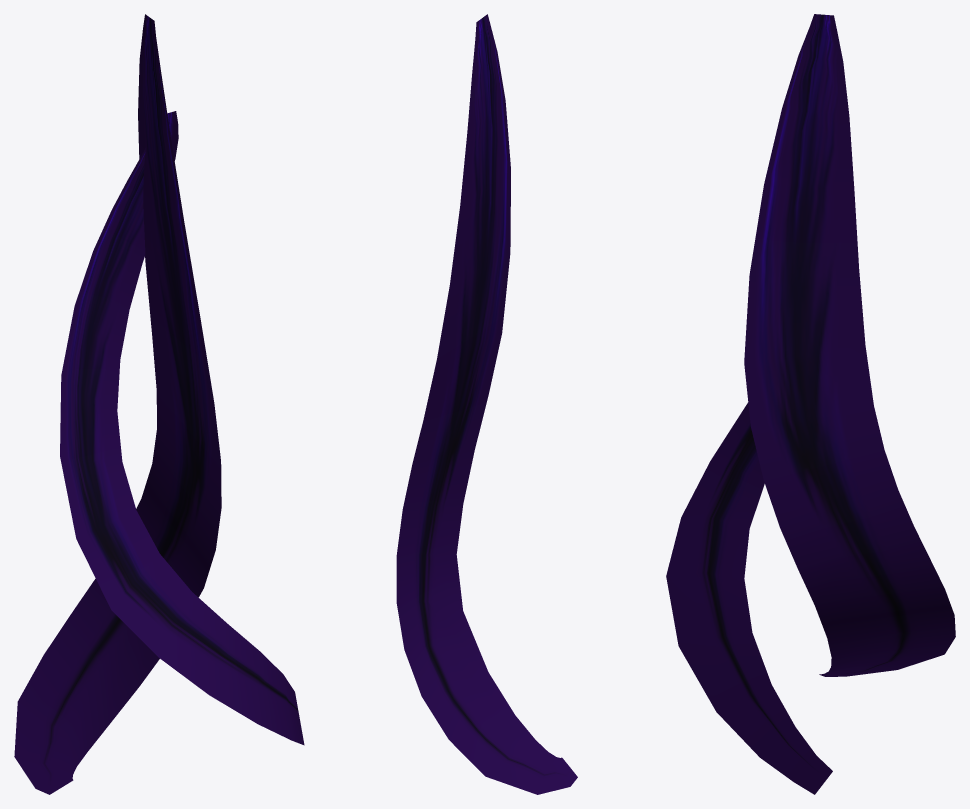
Rendered from youlinglang_chusheng.FBX.
The picture shows the model from 3 angles, left to right: view 1: azimuth 30°, elevation 25°; view 2: azimuth 150°, elevation 25°; view 3: azimuth 270°, elevation 25°; orthographic projection. The views are drawn at different scales.
Parts seen in each view (by area): view 1: 4_1, 4_2; view 2: 4_1; view 3: 4_1, 4_2.
Boxes of the visible parts, x1,y1,x2,y2 form: 4_1: (14, 14, 221, 794); 4_2: (60, 111, 304, 745); 4_1: (396, 14, 577, 794); 4_1: (744, 14, 955, 676); 4_2: (666, 402, 832, 794).
Size of the model in its own units: 147 by 409 by 150.
